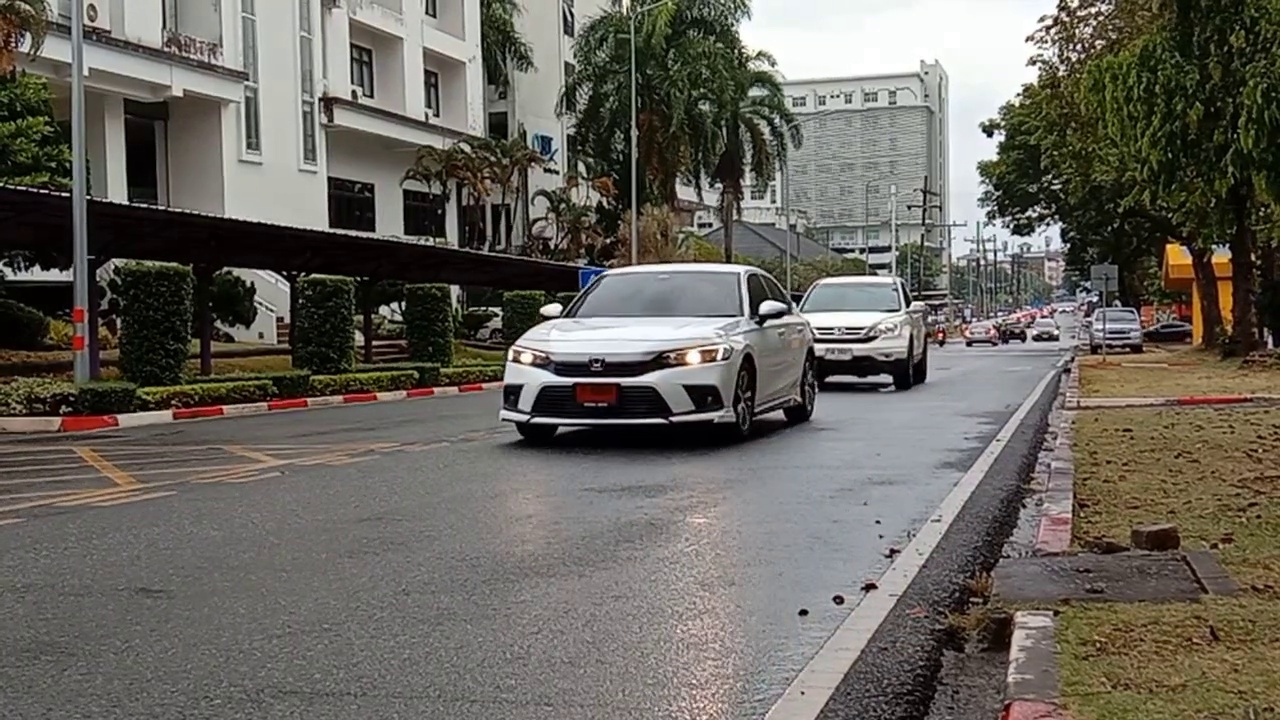License Plate: (571, 381, 623, 404)
